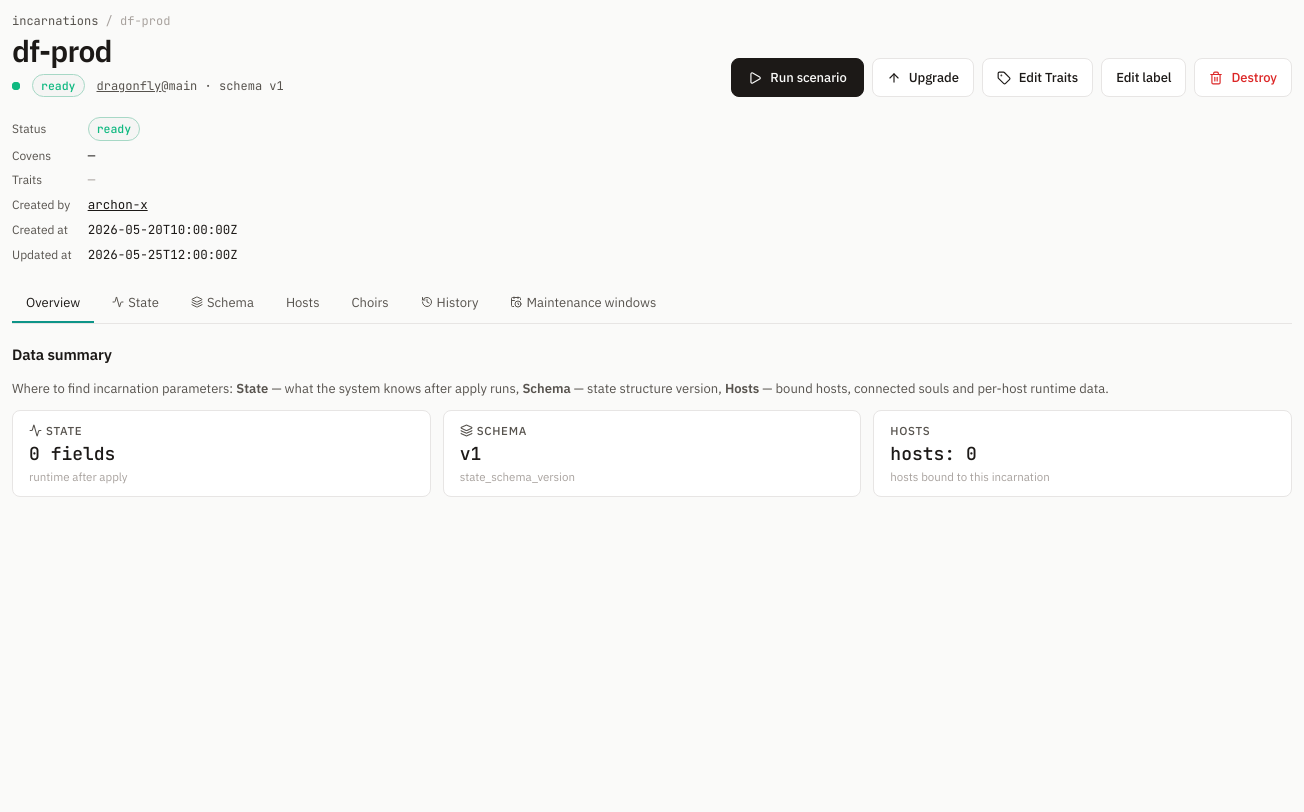
Test case: deferred runs › the incarnation History tab asks for its own deferred runs and shows them
Expected: the heading "df-prod" is shown, [12,31,112,70]
Click the tab "History" at (450, 304), box [407,284,492,323]
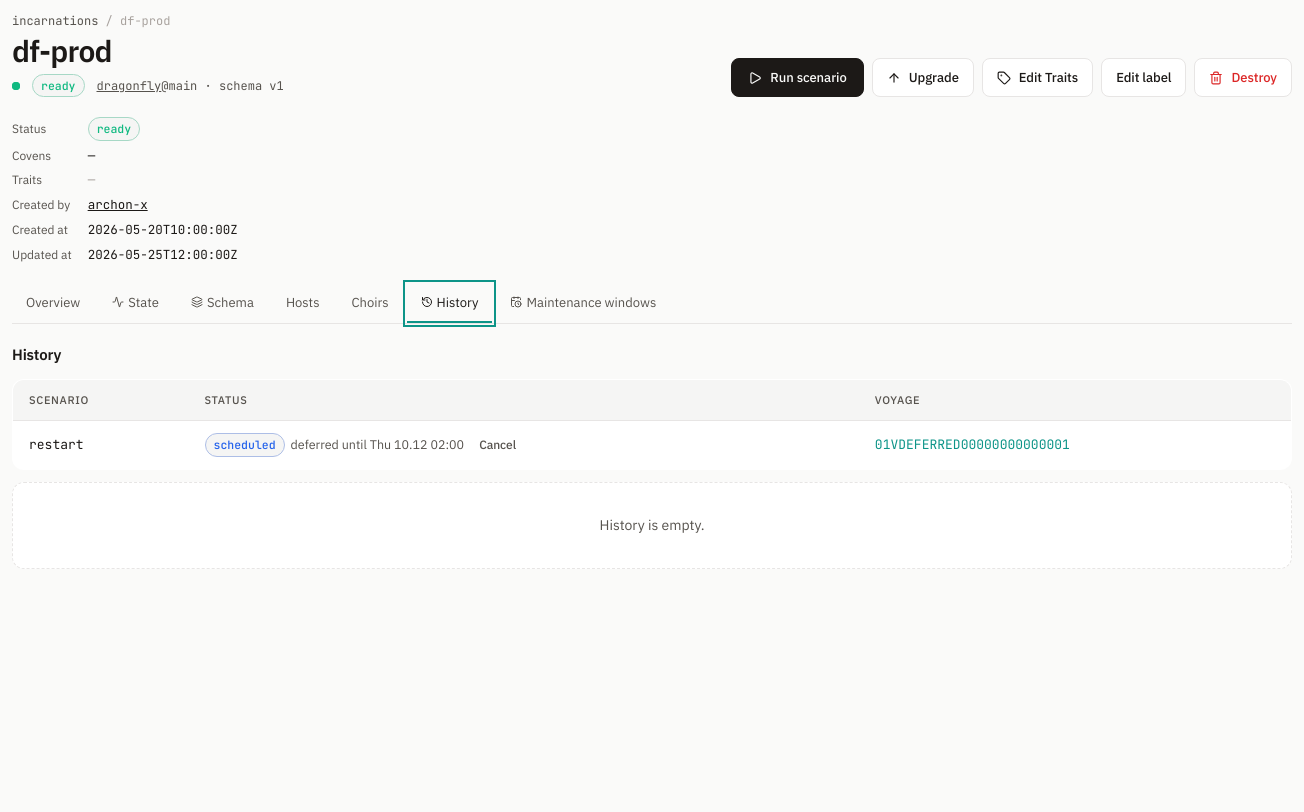
Expected: the text "df-prod" is shown, [120,13,170,29]
Expected: the text "scheduled" is shown, [204,433,285,457]
